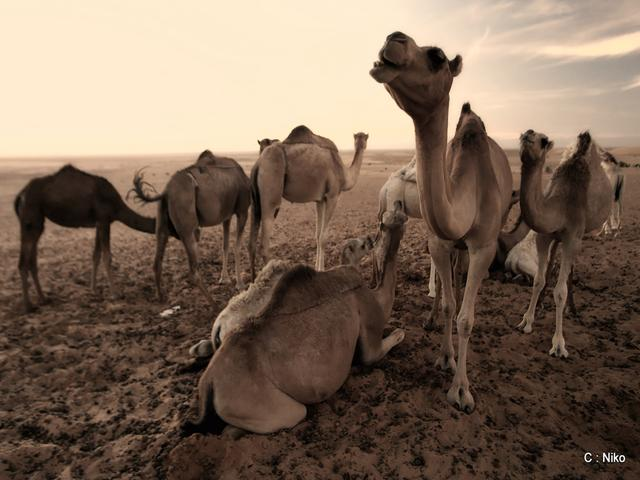camel: (362, 19, 545, 459)
